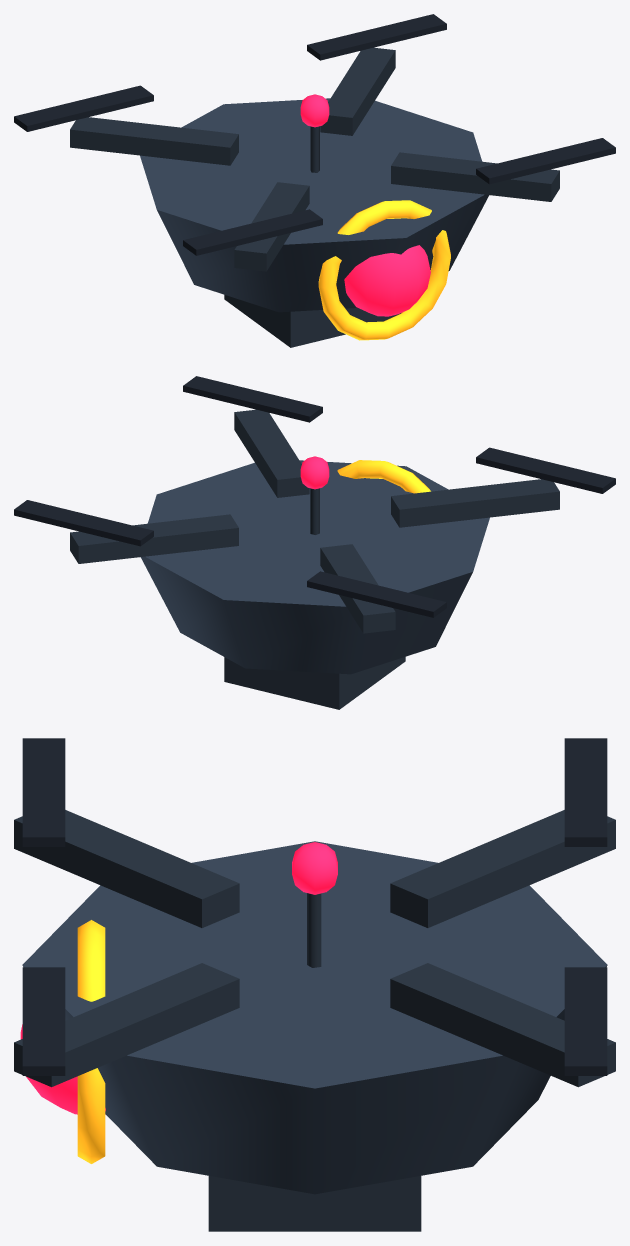
The model's file is drone.glb.
3 views of the same model, one above another, from view 1: azimuth 30°, elevation 25°; view 2: azimuth 150°, elevation 25°; view 3: azimuth 270°, elevation 25° (orthographic). The views are drawn at different scales.
Parts seen in each view (by area): view 1: drone, rotors, blade (×4), drone_eye; view 2: drone, rotors, blade (×4); view 3: drone, rotors, blade (×4), drone_eye.
Boxes of the visible parts, x1=… form: drone: x1=140, y1=94, x2=489, y2=347; rotors: x1=70, y1=47, x2=559, y2=271; blade (×4): x1=14, y1=14, x2=615, y2=255; drone_eye: x1=344, y1=245, x2=430, y2=316; drone: x1=140, y1=456, x2=489, y2=709; rotors: x1=70, y1=409, x2=559, y2=633; blade (×4): x1=14, y1=376, x2=615, y2=617; drone: x1=22, y1=841, x2=607, y2=1231; rotors: x1=14, y1=810, x2=615, y2=1087; blade (×4): x1=22, y1=738, x2=607, y2=1075; drone_eye: x1=20, y1=1024, x2=105, y2=1114.
Bounding box in the file's own units: 1.46 × 0.71 × 1.13.
